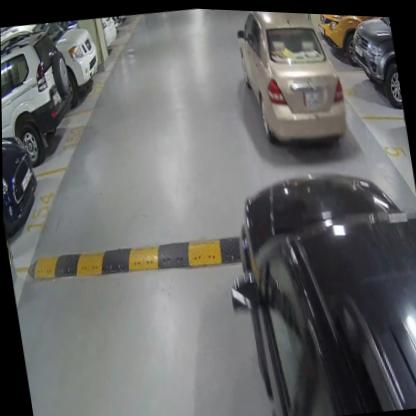np: (302, 86, 321, 105)
